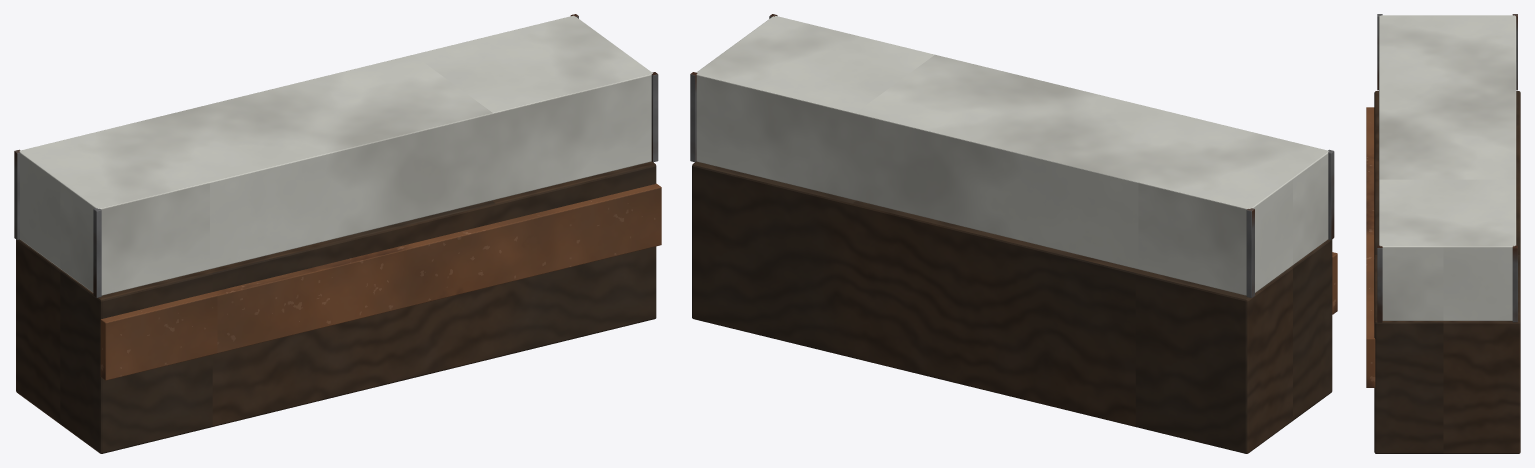
The model's file is W01_sweet_shop_counter.glb.
3 renders of one model, left to right at view 1: azimuth 30°, elevation 25°; view 2: azimuth 150°, elevation 25°; view 3: azimuth 270°, elevation 25°, orthographic. The views are drawn at different scales.
Parts seen in each view (by area): view 1: W01_sweet_shop_counter; view 2: W01_sweet_shop_counter; view 3: W01_sweet_shop_counter.
Part boxes in pixels (left/top/right/bottom): W01_sweet_shop_counter: left=14, top=14, right=661, bottom=453; W01_sweet_shop_counter: left=690, top=14, right=1337, bottom=453; W01_sweet_shop_counter: left=1366, top=14, right=1520, bottom=453.
Bounding box in the file's own units: 3 × 1.24 × 0.8366.
Materials: 5 (5 with a texture image).
